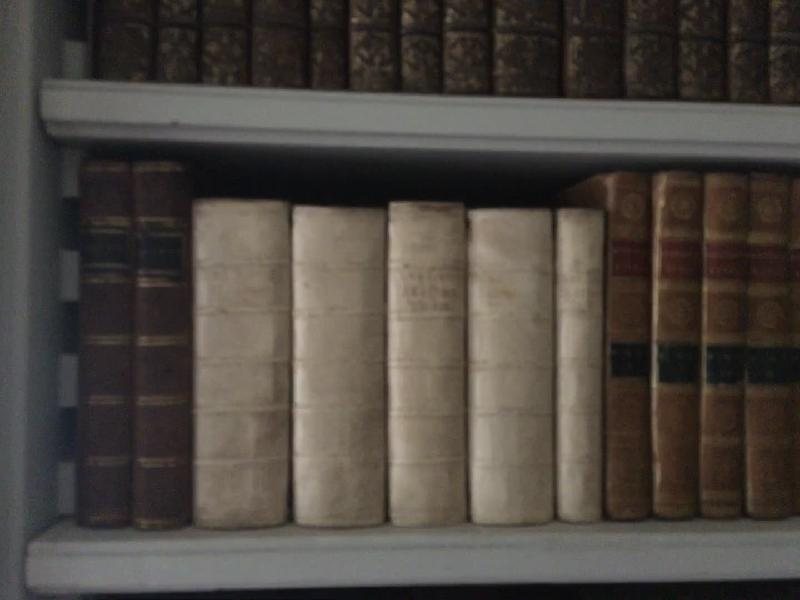Kk4-1_2: (75, 147, 193, 538)
Kk4-3_7: (190, 193, 610, 535)
Kk4-8_13: (604, 166, 800, 529)
